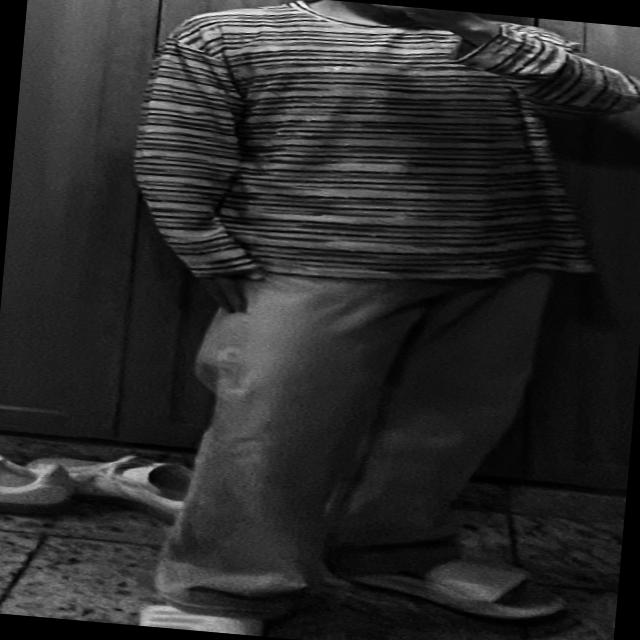longsleeve: (119, 0, 640, 319)
trainingpants: (163, 250, 546, 638)
